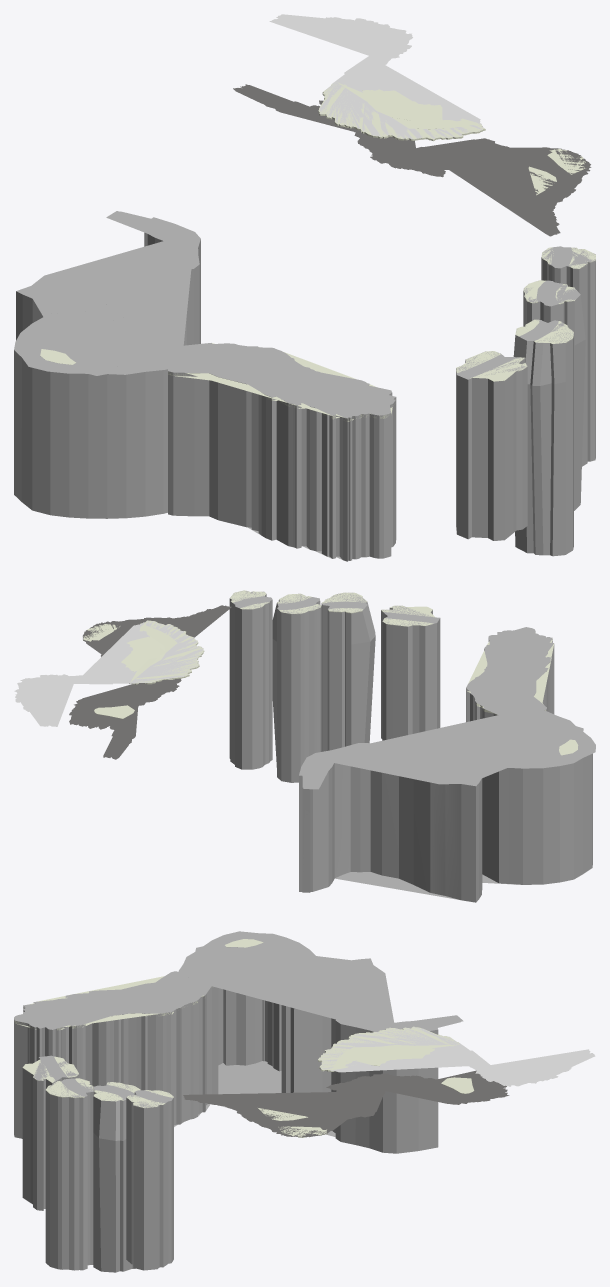
File: LD 2 - Train track Collision.fbx
3 views of the same model, one above another, from view 1: azimuth 30°, elevation 25°; view 2: azimuth 150°, elevation 25°; view 3: azimuth 270°, elevation 25° (orthographic). The views are drawn at different scales.
Visible parts, largest first — view 1: COL_Start_Plateau_Wall, COL_Waterfall_Wall, COL_Waterfall_Ground, COL_Lower_Track_Ground, COL_Pillar_3_Wall, COL Pillar_End_Plateau_Wall, COL_Higher_Track_Ground, COL_Start_Plateau_Ground.001, COL_Pillar_End_Plateau_Wall, COL_Higher_Track_Off-track, COL_Pillar_1_Wall, COL_Pillar_2_Wall (+6 smaller); view 2: COL_Waterfall_Wall, COL_Waterfall_Ground, COL_Pillar_2_Wall, COL_Pillar_3_Wall, COL_Pillar_1_Wall, COL Pillar_End_Plateau_Wall, COL_Higher_Track_Ground, COL_Pillar_End_Plateau_Wall, COL_Lower_Track_Ground, COL_Start_Plateau_Ground.001, COL_Higher_Track_Off-track, COL_Start_Plateau_Wall (+8 smaller); view 3: COL_Waterfall_Wall, COL_Start_Plateau_Wall, COL_Waterfall_Ground, COL_Pillar_3_Wall, COL_Lower_Track_Ground, COL_Pillar_1_Wall, COL_Higher_Track_Ground, COL_Pillar_2_Wall, COL_Start_Plateau_Ground.001, COL Pillar_End_Plateau_Wall, COL_Higher_Track_Off-track, COL_Pillar_End_Plateau_Wall (+5 smaller).
Boxes of the visible parts, box(x1,y1,x2,y2) form: COL_Start_Plateau_Wall: box(168, 371, 396, 561); COL_Waterfall_Wall: box(14, 211, 200, 518); COL_Waterfall_Ground: box(14, 211, 200, 375); COL_Lower_Track_Ground: box(233, 84, 591, 236); COL_Pillar_3_Wall: box(513, 335, 573, 556); COL Pillar_End_Plateau_Wall: box(456, 358, 527, 537); COL_Higher_Track_Ground: box(269, 14, 483, 139); COL_Start_Plateau_Ground.001: box(168, 343, 395, 418); COL_Pillar_End_Plateau_Wall: box(456, 359, 527, 540); COL_Higher_Track_Off-track: box(318, 82, 485, 141); COL_Pillar_1_Wall: box(541, 257, 595, 466); COL_Pillar_2_Wall: box(523, 291, 585, 510); COL_Waterfall_Wall: box(299, 753, 592, 902); COL_Waterfall_Ground: box(299, 707, 595, 789); COL_Pillar_2_Wall: box(272, 600, 321, 782); COL_Pillar_3_Wall: box(321, 597, 375, 751); COL_Pillar_1_Wall: box(229, 594, 272, 769); COL Pillar_End_Plateau_Wall: box(381, 608, 440, 739); COL_Higher_Track_Ground: box(14, 621, 203, 726); COL_Pillar_End_Plateau_Wall: box(381, 608, 440, 740); COL_Lower_Track_Ground: box(69, 605, 231, 759); COL_Start_Plateau_Ground.001: box(466, 627, 553, 714); COL_Higher_Track_Off-track: box(121, 620, 204, 684); COL_Start_Plateau_Wall: box(466, 637, 554, 722); COL_Waterfall_Wall: box(218, 988, 460, 1153); COL_Start_Plateau_Wall: box(14, 986, 218, 1138); COL_Waterfall_Ground: box(178, 931, 463, 1031); COL_Pillar_3_Wall: box(45, 1084, 93, 1270); COL_Lower_Track_Ground: box(183, 1070, 509, 1137); COL_Pillar_1_Wall: box(126, 1092, 173, 1270); COL_Higher_Track_Ground: box(319, 1027, 595, 1086); COL_Pillar_2_Wall: box(93, 1088, 135, 1272); COL_Start_Plateau_Ground.001: box(14, 971, 211, 1029); COL Pillar_End_Plateau_Wall: box(22, 1057, 79, 1208); COL_Higher_Track_Off-track: box(318, 1026, 459, 1071); COL_Pillar_End_Plateau_Wall: box(22, 1068, 79, 1210).
Size of the model in its own units: 53102 by 23986 by 55385.
